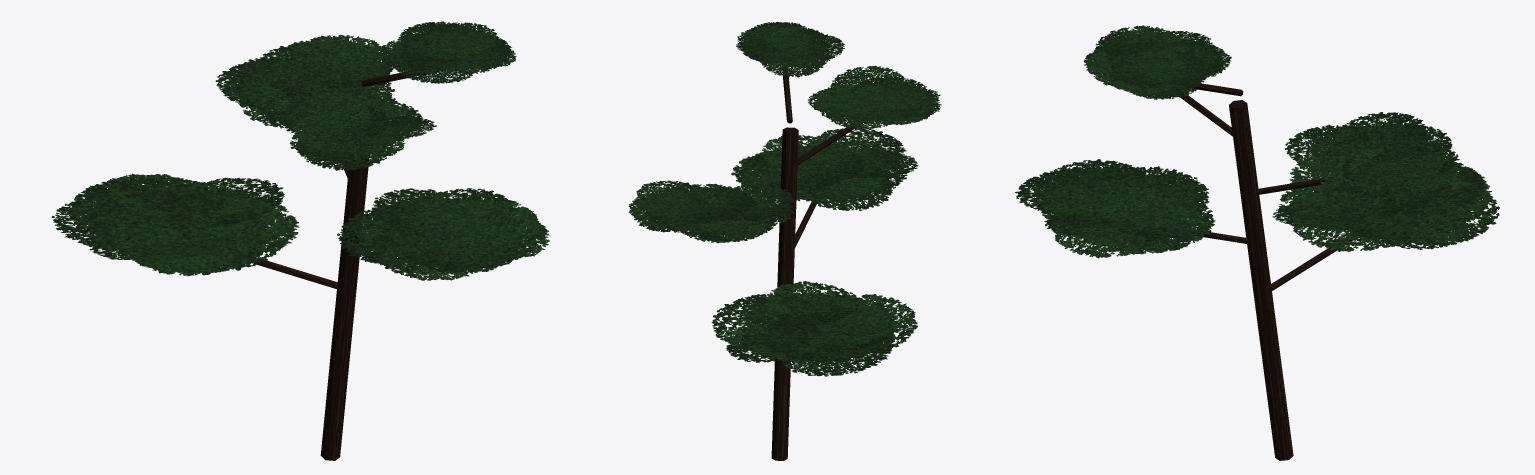
File: black_pine.glb
3 renders of one model, left to right at view 1: azimuth 30°, elevation 25°; view 2: azimuth 150°, elevation 25°; view 3: azimuth 270°, elevation 25°, orthographic. The views are drawn at different scales.
Parts seen in each view (by area): view 1: pine; view 2: pine; view 3: pine.
Boxes of the visible parts, x1,y1,x2,y2 form: pine: (51,21,549,460); pine: (628,21,941,460); pine: (1015,25,1499,460).
Bounding box in the file's own units: 9.53 × 11.21 × 12.65.
Materials: 2 (2 with a texture image).
